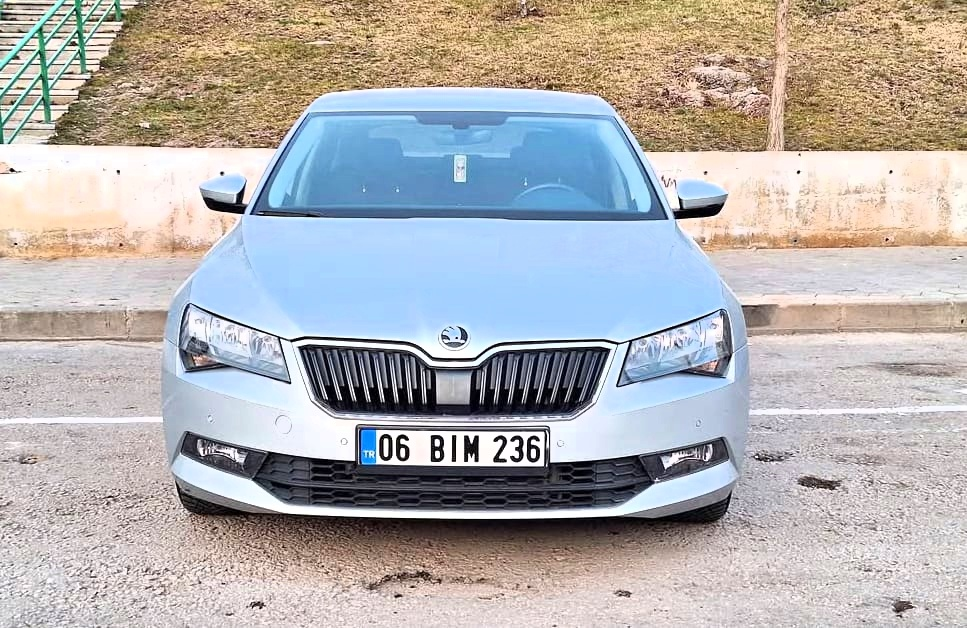plaka: (372, 419, 548, 473)
